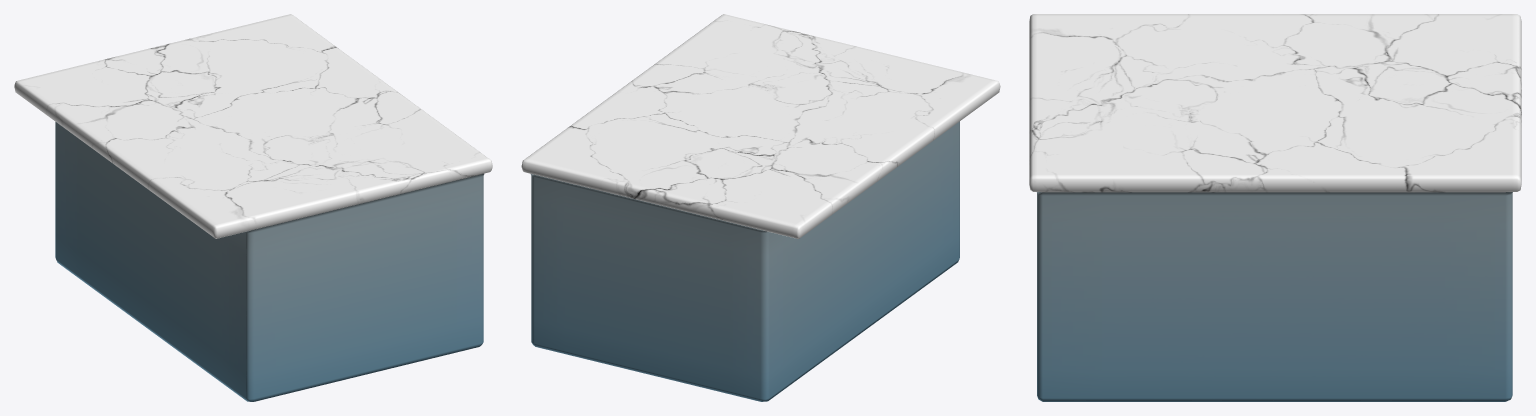
File: PR_kitchenIsland_v1.fbx
3 views of the same model, side by side, from view 1: azimuth 30°, elevation 25°; view 2: azimuth 150°, elevation 25°; view 3: azimuth 270°, elevation 25° (orthographic). The views are drawn at different scales.
Visible parts, largest first — view 1: Base; view 2: Base; view 3: Base.
Part boxes in pixels (box(x1,y1,x2,y2)): Base: box(14, 14, 492, 401); Base: box(521, 14, 1000, 401); Base: box(1029, 14, 1521, 401).
Bounding box in the file's own units: 25274 × 16318 × 31762.
Materials: 1 (1 with a texture image).
